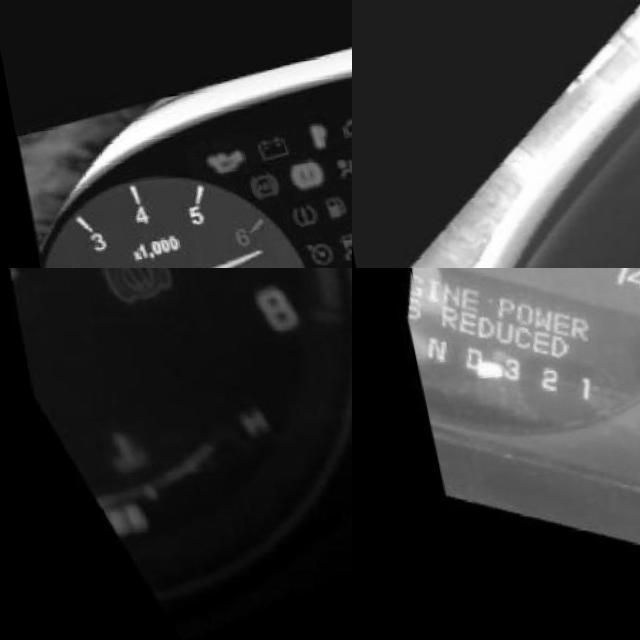Engine cooling system: (298, 125, 318, 152)
